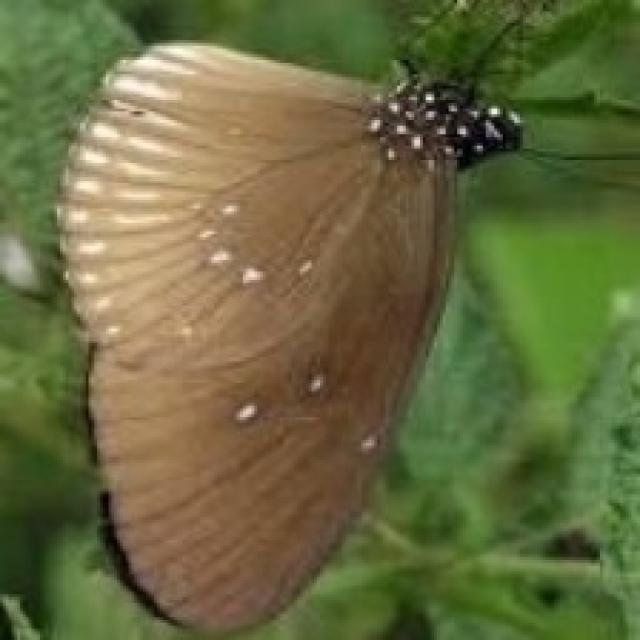butterfly: (51, 0, 637, 634)
